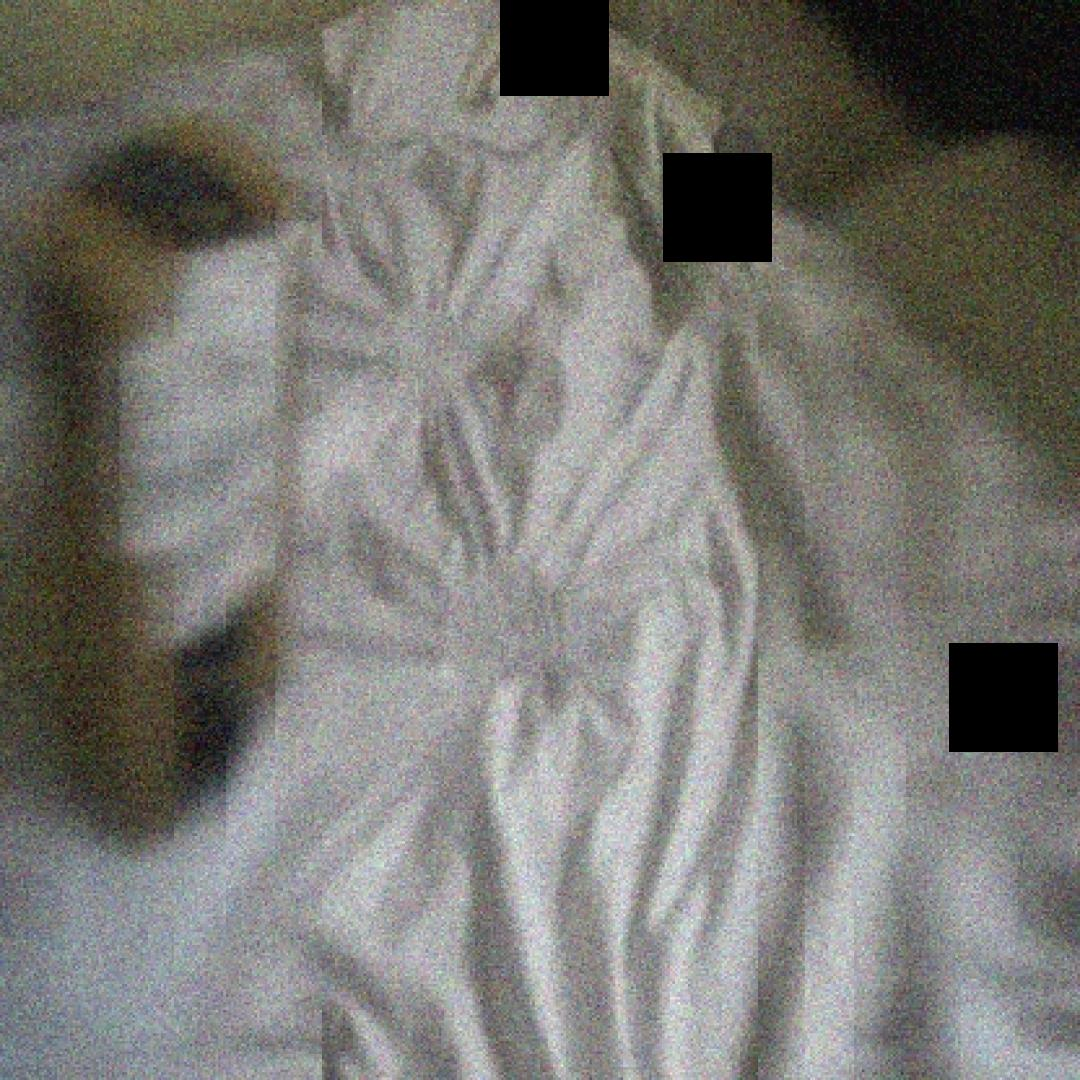package: (18, 91, 309, 873)
